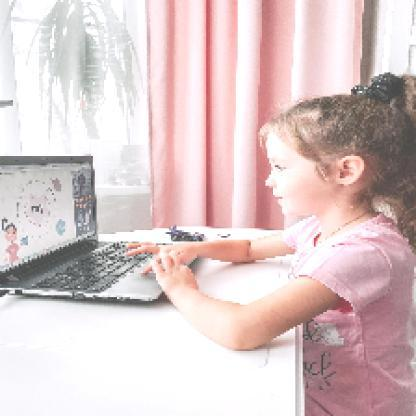child: (126, 72, 416, 416)
